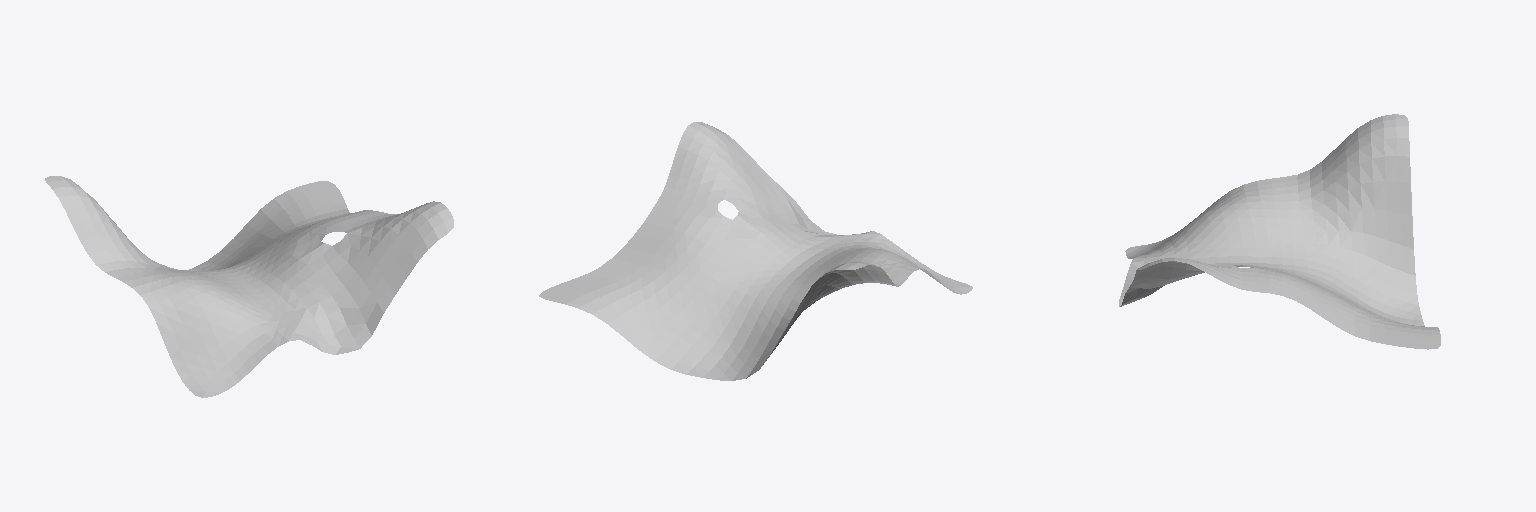
File: Mesh4_Hole.obj
3 renders of one model, left to right at view 1: azimuth 30°, elevation 25°; view 2: azimuth 150°, elevation 25°; view 3: azimuth 270°, elevation 25°, orthographic.
Visible parts, largest first — view 1: Hole_Plane.007; view 2: Hole_Plane.007; view 3: Hole_Plane.007.
Part boxes in pixels (left/top/right/bottom): Hole_Plane.007: left=45, top=176, right=453, bottom=397; Hole_Plane.007: left=539, top=122, right=972, bottom=380; Hole_Plane.007: left=1119, top=114, right=1440, bottom=349.
Size of the model in its own units: 2.52 by 1.08 by 2.31.